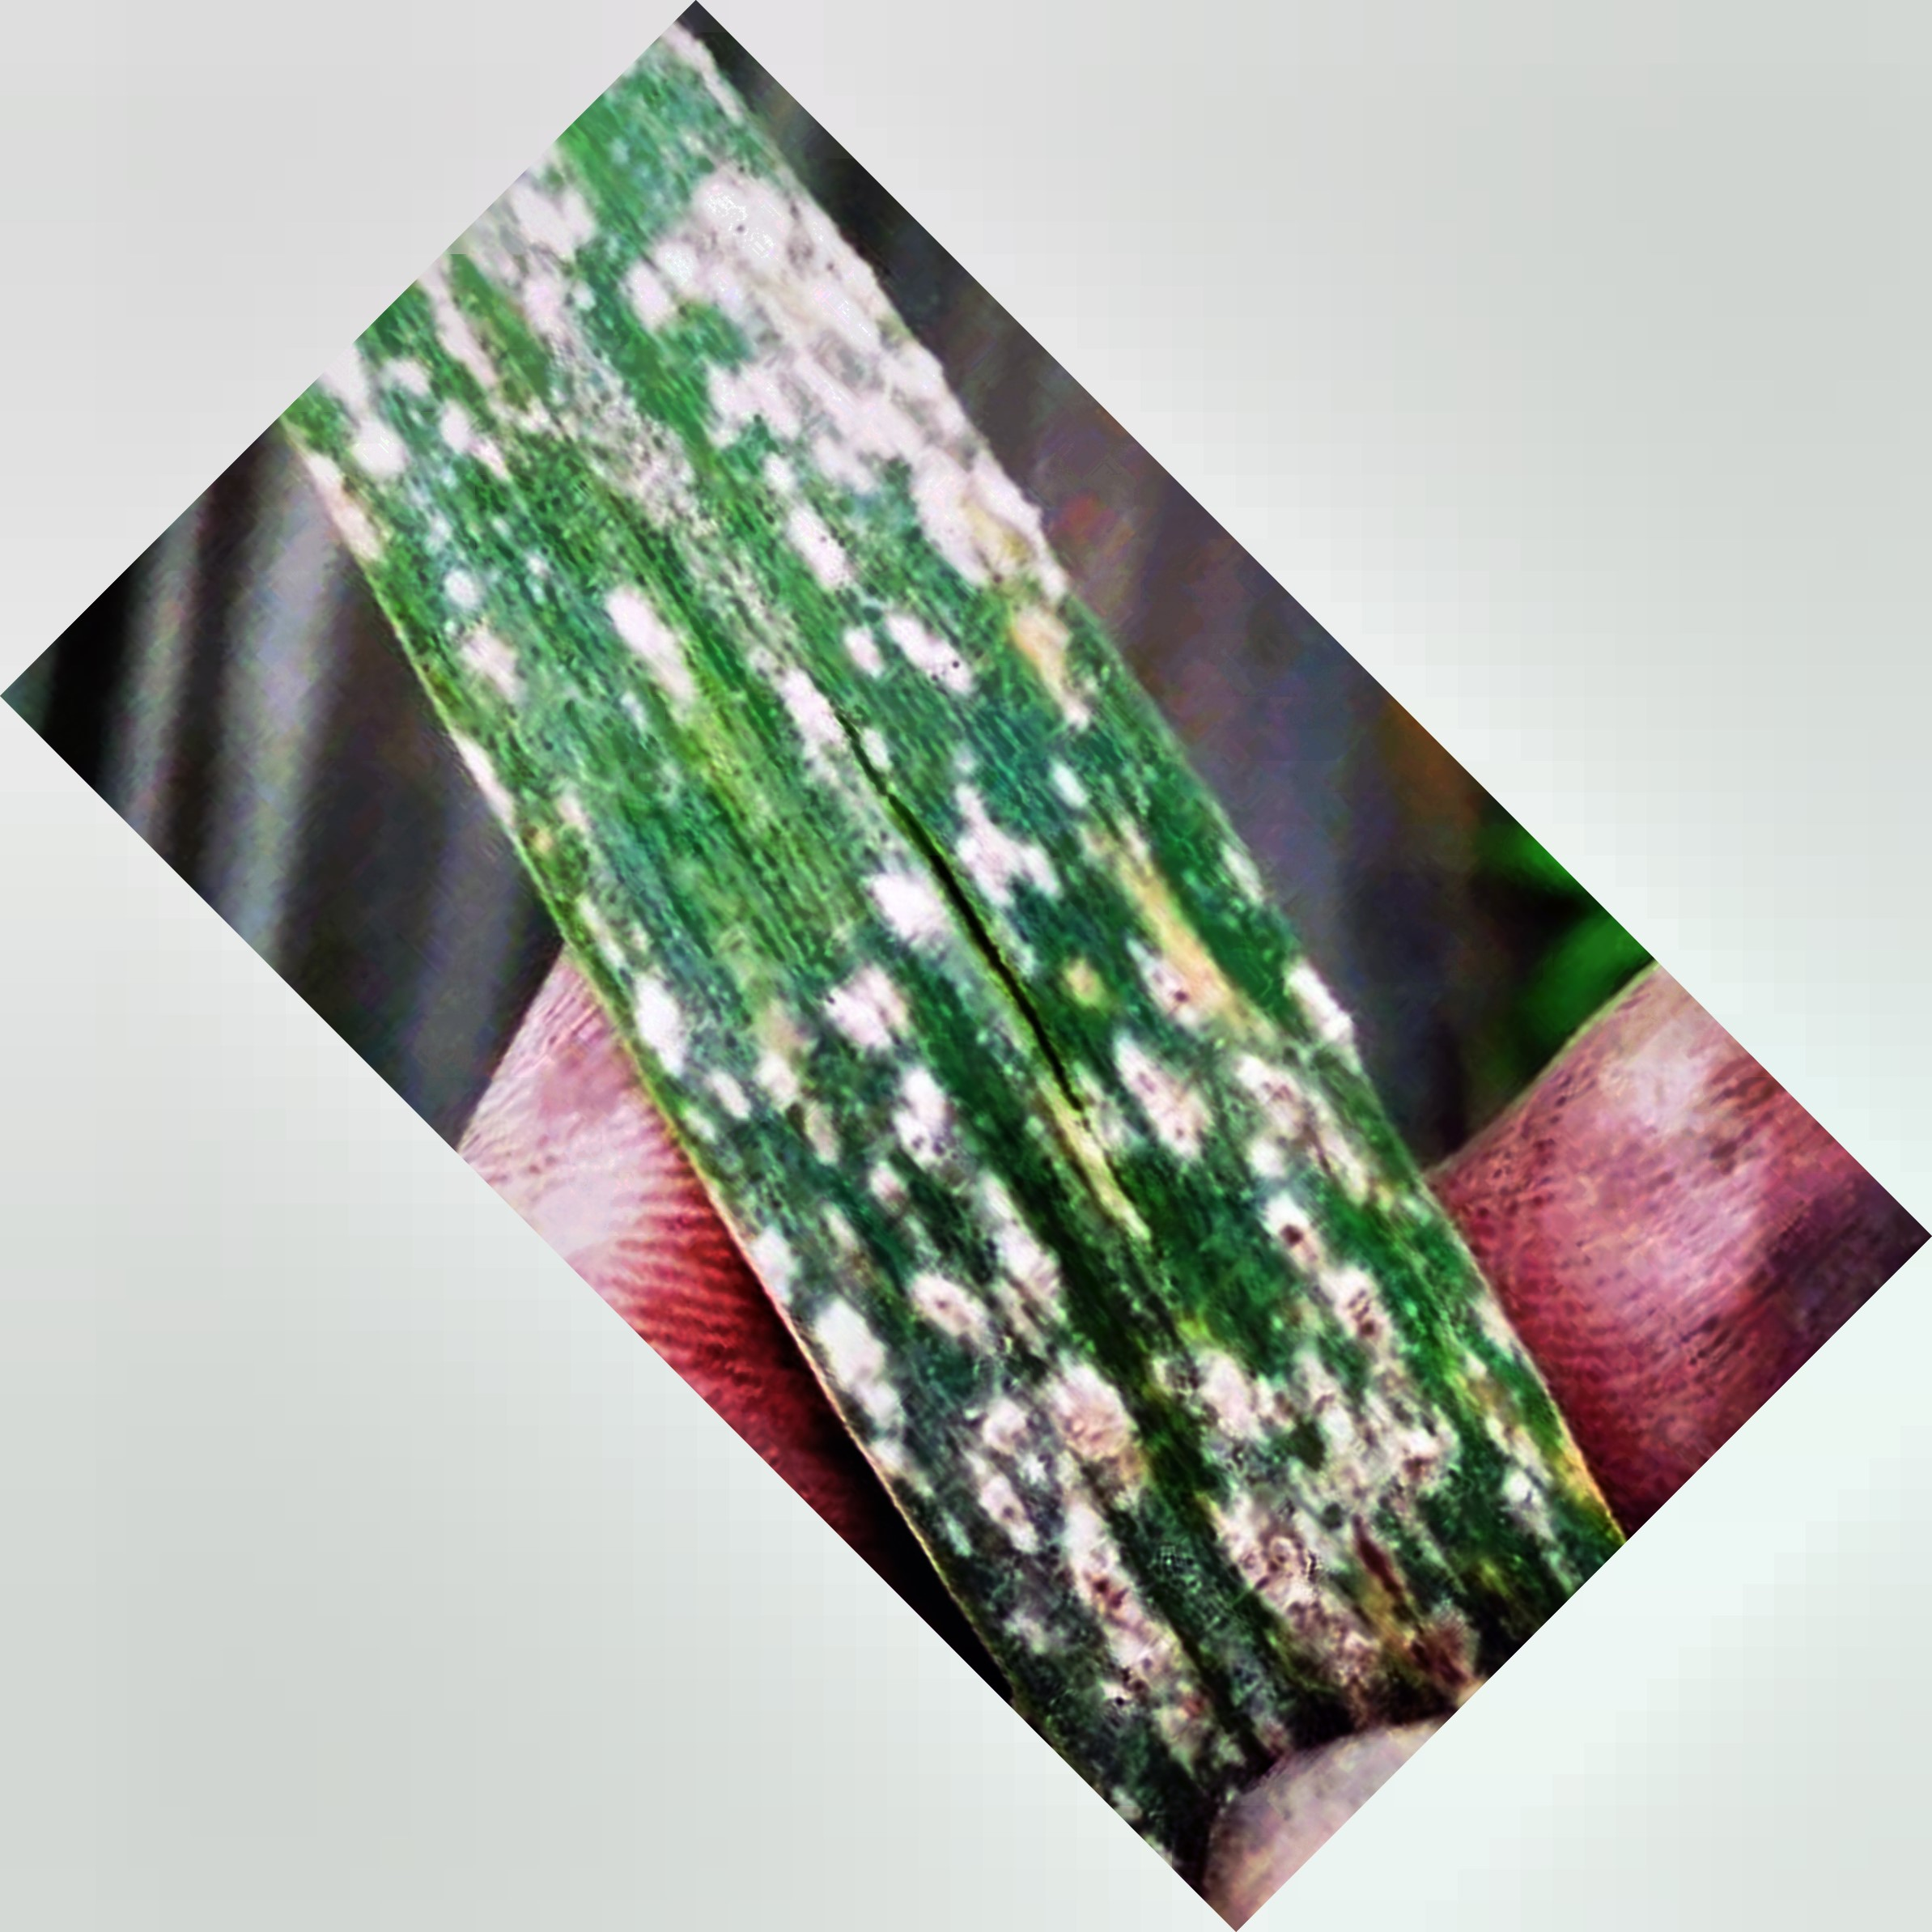Powdery Mildew: (472, 315, 1454, 1711)
